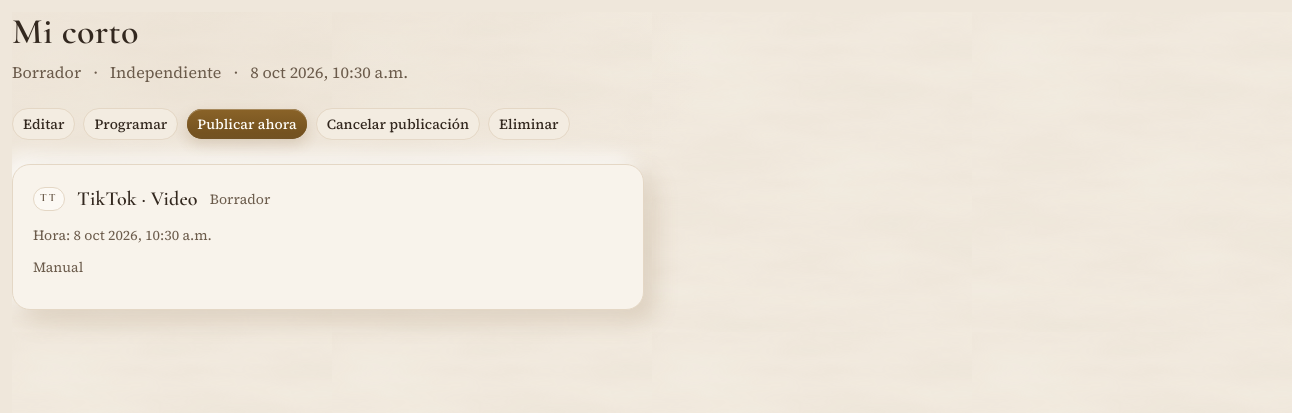
sin archivo disponible, Publicar ahora muestra el error y no confirma
Step 1. Click the button "Publicar ahora" → (247, 124), box [186, 108, 308, 140]
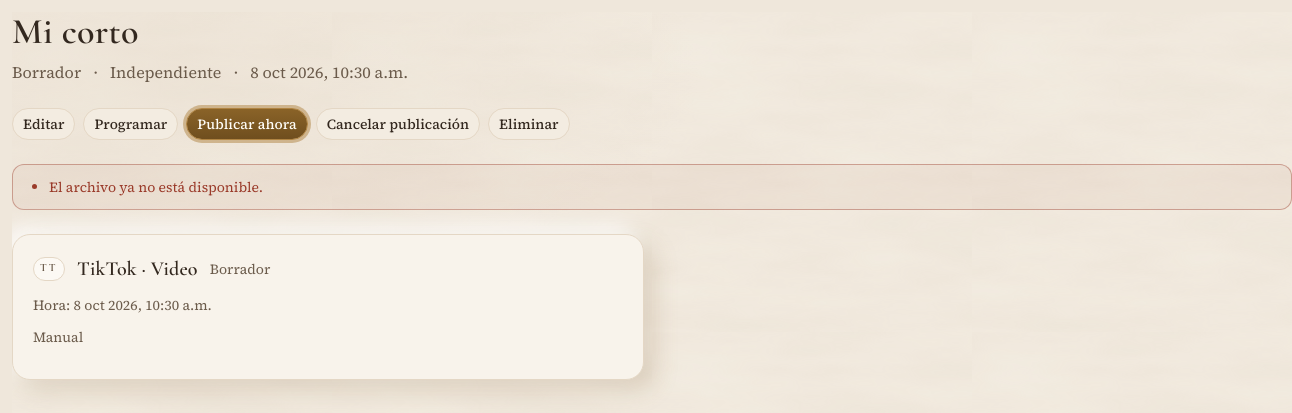
Result: the list item "El archivo ya no está disponible." is shown at [49, 177, 263, 197]
